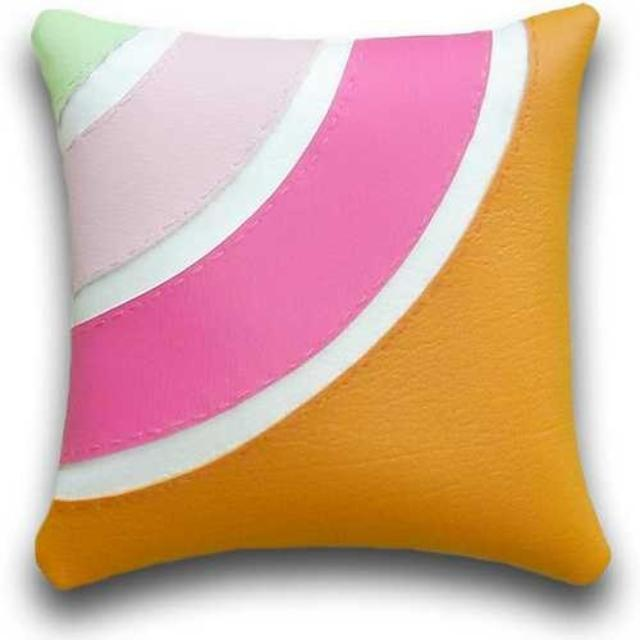pillow: (29, 1, 612, 592)
